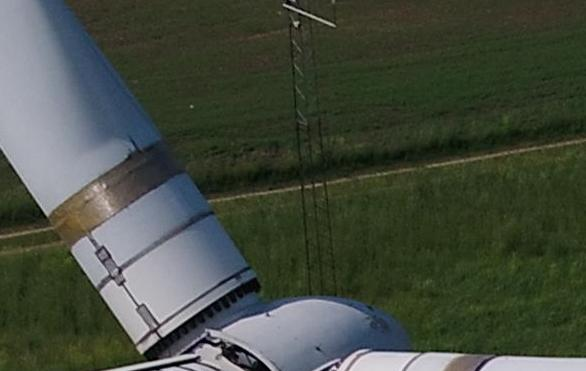damage: (366, 314, 393, 335)
